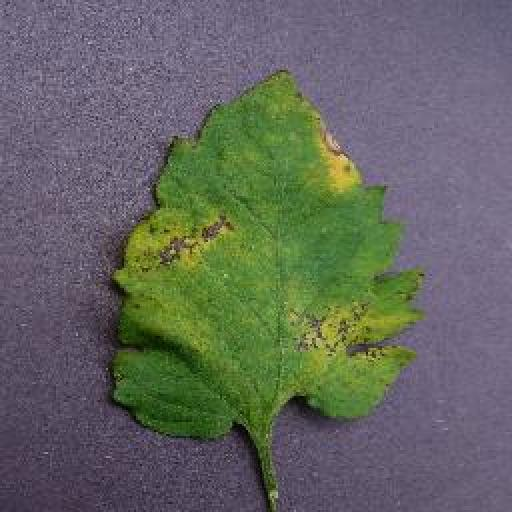disease_tomato: (107, 64, 428, 438)
